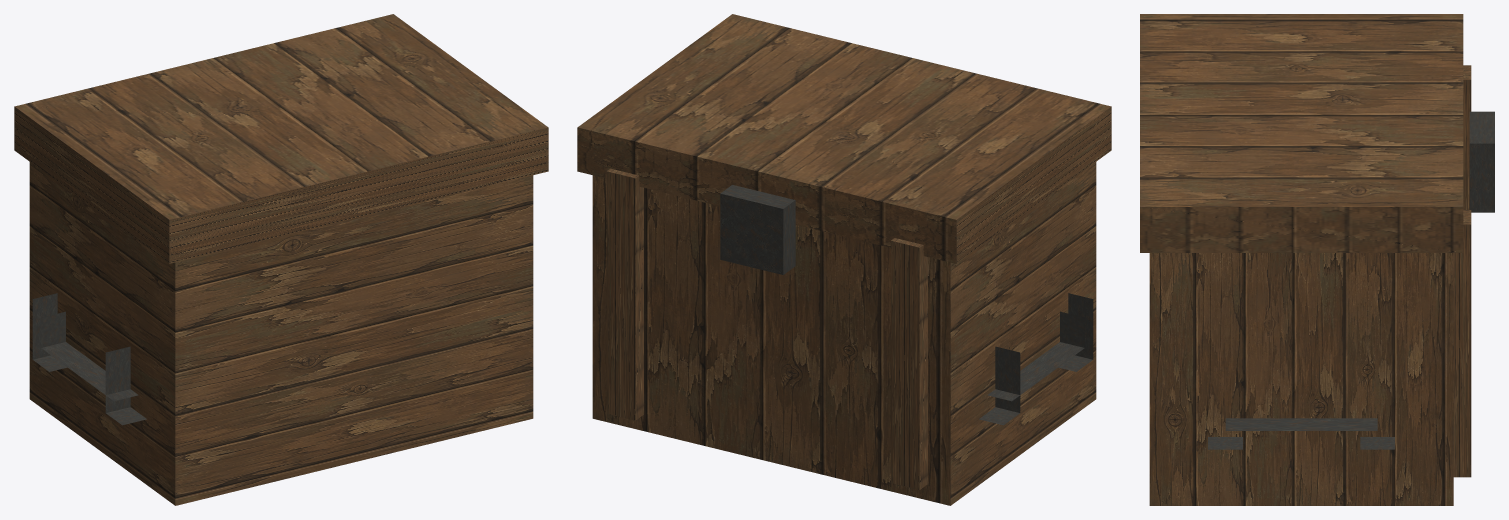
The model's file is PRP_SUPPLY_CRATE_001.obj.
3 views of the same model, side by side, from view 1: azimuth 30°, elevation 25°; view 2: azimuth 150°, elevation 25°; view 3: azimuth 270°, elevation 25° (orthographic). The views are drawn at different scales.
Parts seen in each view (by area): view 1: CrateBody, SealedLid, HandleMount, BroadSideHandle; view 2: CrateBody, SealedLid, VerticalBrace, ReadableLatch, HandleMount, BroadSideHandle; view 3: SealedLid, CrateBody, VerticalBrace, ReadableLatch, BroadSideHandle, HandleMount.
Boxes of the visible parts, x1,y1,x2,y2 form: CrateBody: [29, 162, 533, 505]; SealedLid: [14, 14, 548, 263]; HandleMount: [32, 293, 146, 425]; BroadSideHandle: [41, 311, 138, 401]; CrateBody: [592, 162, 1096, 505]; SealedLid: [577, 14, 1111, 263]; VerticalBrace: [606, 168, 927, 489]; ReadableLatch: [720, 185, 795, 274]; HandleMount: [979, 293, 1093, 425]; BroadSideHandle: [987, 311, 1084, 401]; SealedLid: [1140, 14, 1463, 252]; CrateBody: [1149, 253, 1453, 505]; VerticalBrace: [1453, 65, 1471, 477]; ReadableLatch: [1469, 111, 1494, 212]; BroadSideHandle: [1225, 418, 1377, 430]; HandleMount: [1208, 437, 1394, 449].
Size of the model in its own units: 0.775 by 0.53 by 0.56.
2 materials, 2 textured.
